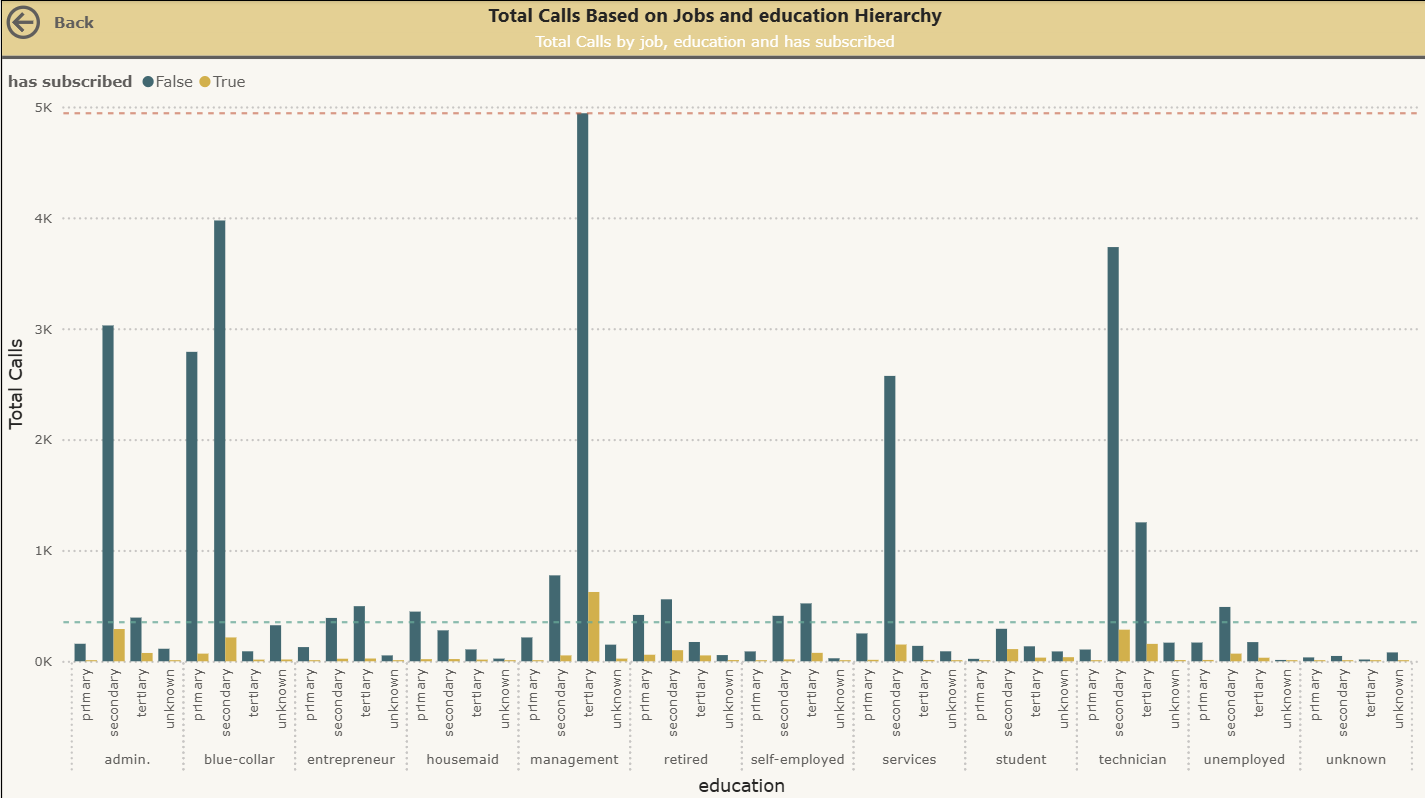

The page's visual inventory and layout, read from the dashboard file:
{"tool":"powerbi","page":{"name":"Job/Education Drill","canvas":[1280,720],"ordinal":1},"visuals":[{"type":"clusteredColumnChart","title":"Total Calls Based on Jobs and education Hierarchy ","fields":{"Category":["optimizedBankData.job Hierarchy.job","optimizedBankData.job Hierarchy.education"],"Y":["optimizedBankData.Total Calls"],"Series":["optimizedBankData.has subscribed"]},"box":[0,0,1280.2,720],"z":0},{"type":"actionButton","box":[0,0,100,40],"z":1000}]}

Visuals, with their boxes in screenshot pixels (x1, y1, x2, y2), scaled from the page's 1280x720 canvas onto the 1425x798 screenshot:
"Total Calls Based on Jobs and education Hierarchy " clusteredColumnChart: Rect(0, 0, 1424, 797)
actionButton: Rect(0, 0, 111, 44)
